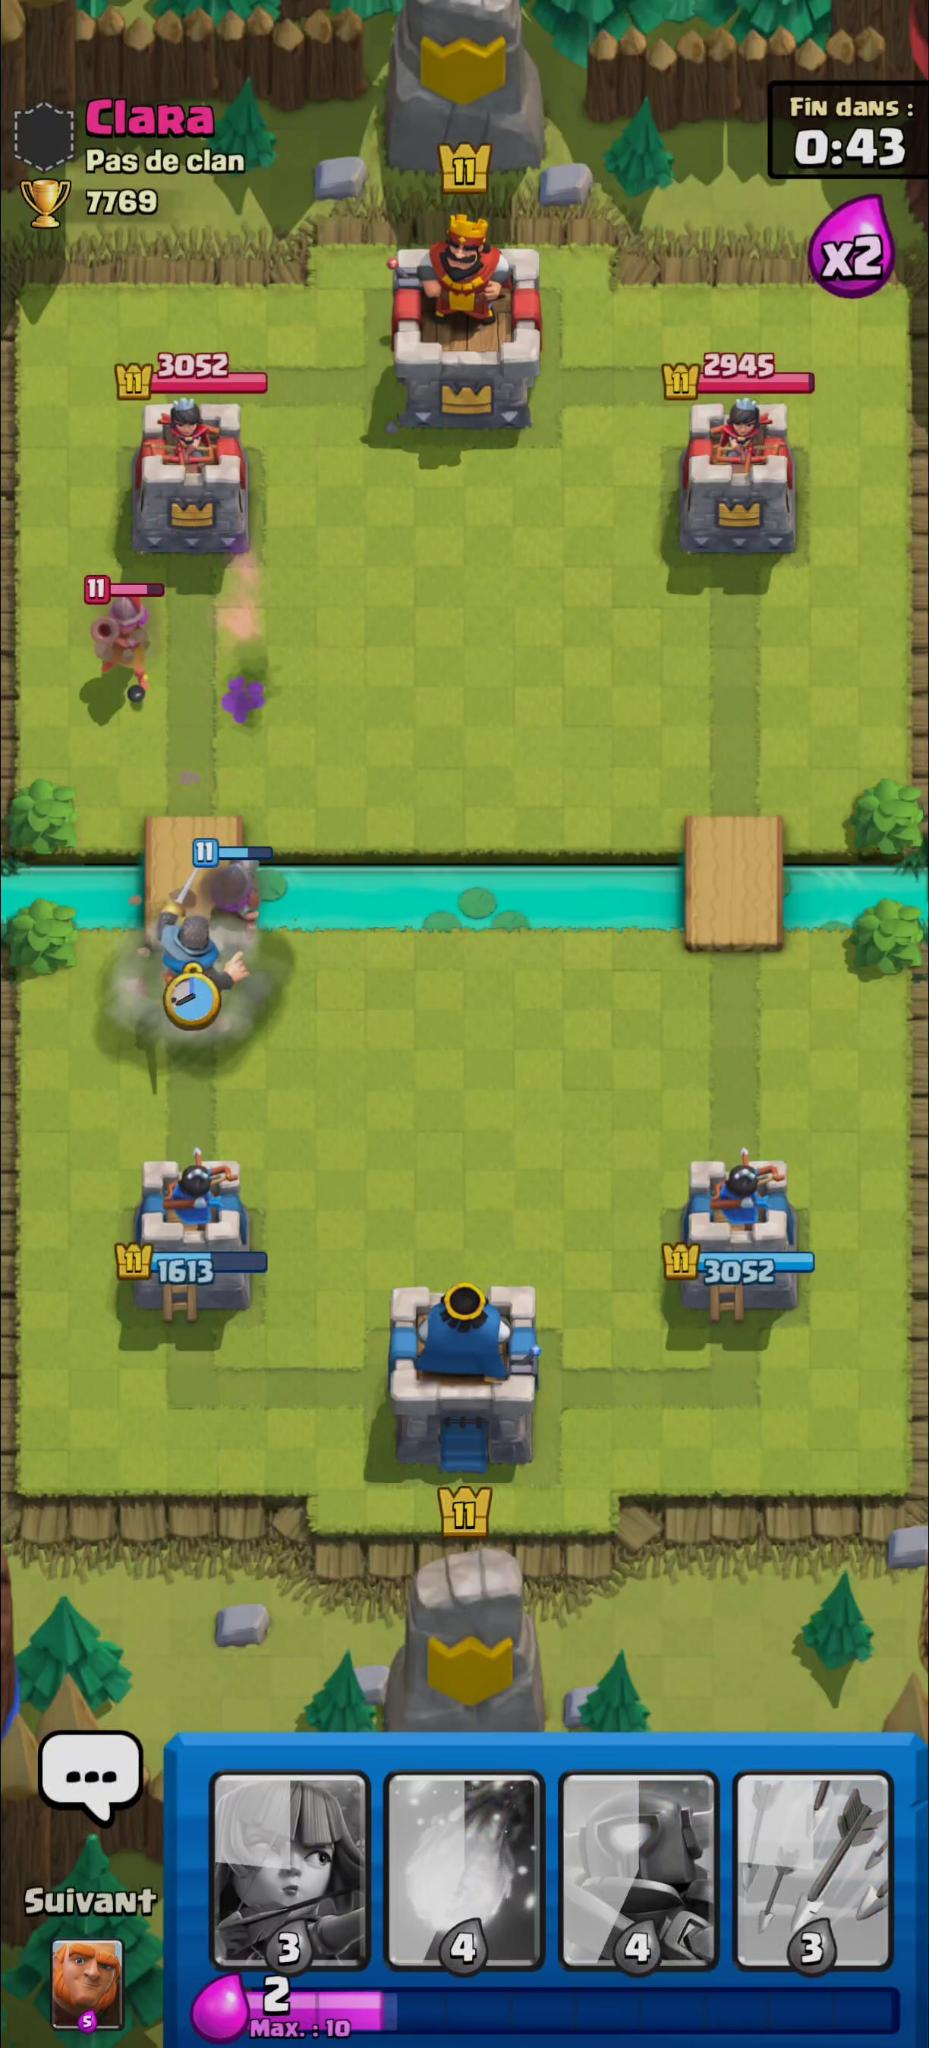chevalier: (161, 903, 244, 995)
mousquetaire: (89, 593, 158, 700), (210, 853, 263, 939)
